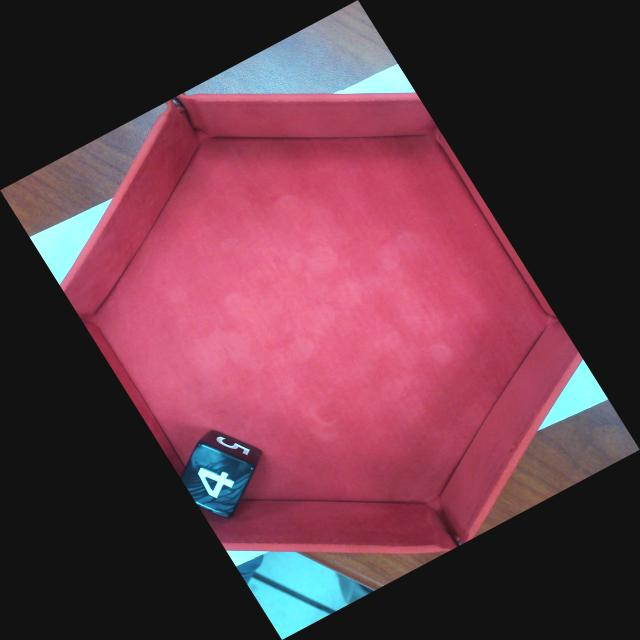dice: (182, 443, 251, 518)
